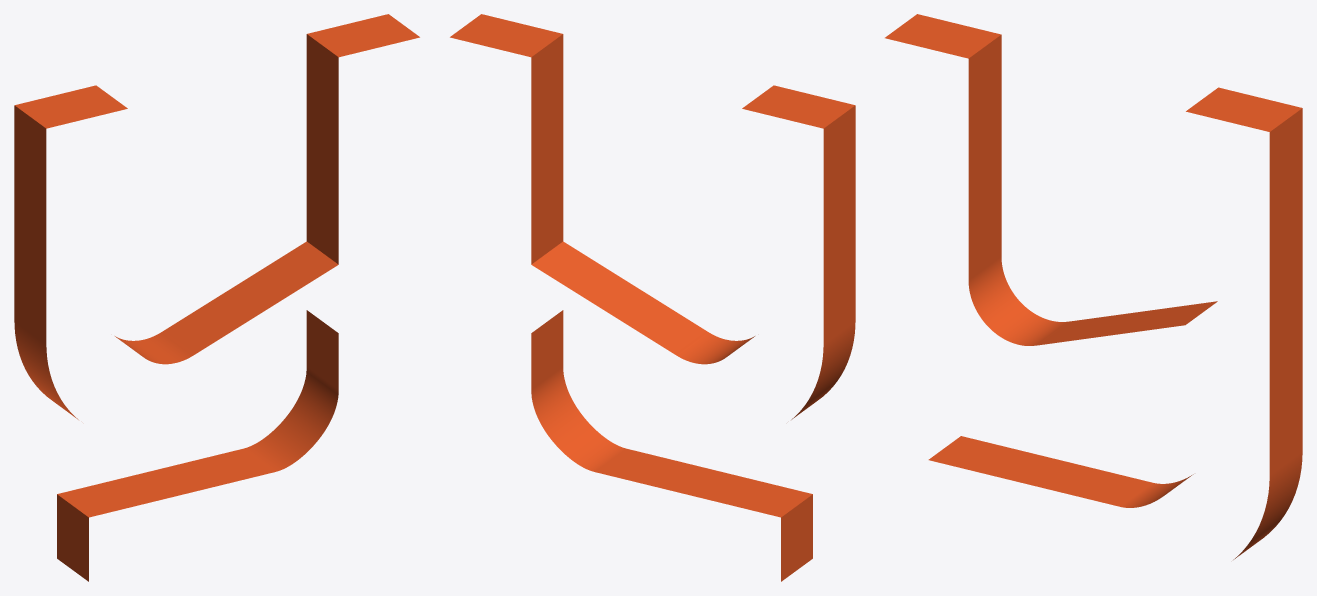
The model's file is front.glb.
3 views of the same model, side by side, from view 1: azimuth 30°, elevation 25°; view 2: azimuth 150°, elevation 25°; view 3: azimuth 330°, elevation 25° (orthographic). The views are drawn at different scales.
Visible parts, largest first — view 1: front; view 2: front; view 3: front.
Part boxes in pixels (box(x1,y1,x2,y2)): front: box(14, 14, 419, 581); front: box(450, 14, 855, 581); front: box(885, 14, 1302, 559).
Size of the model in its own units: 42.21 by 50 by 6.25.
